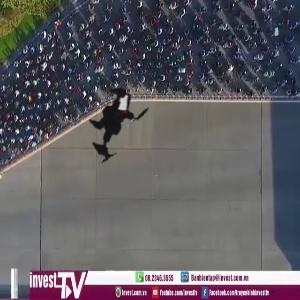drone: (62, 69, 178, 185)
